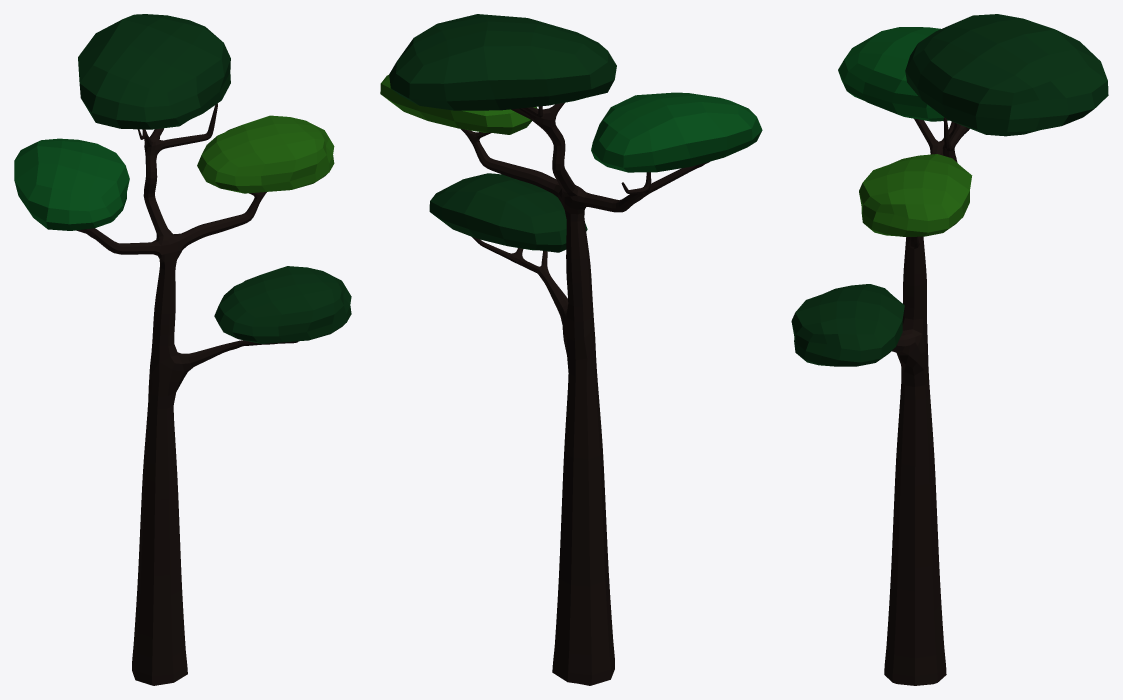
The model's file is lp_tree_3_Cube_001.obj.
The picture shows the model from 3 angles, left to right: view 1: azimuth 30°, elevation 25°; view 2: azimuth 150°, elevation 25°; view 3: azimuth 270°, elevation 25°; orthographic projection. The views are drawn at different scales.
Visible parts, largest first — view 1: lp_tree_3_Cube_001; view 2: lp_tree_3_Cube_001; view 3: lp_tree_3_Cube_001.
Boxes of the visible parts, x1,y1,x2,y2 form: lp_tree_3_Cube_001: [14, 14, 351, 685]; lp_tree_3_Cube_001: [380, 14, 762, 685]; lp_tree_3_Cube_001: [791, 14, 1108, 685].
Size of the model in its own units: 13.65 by 25.11 by 10.84.
